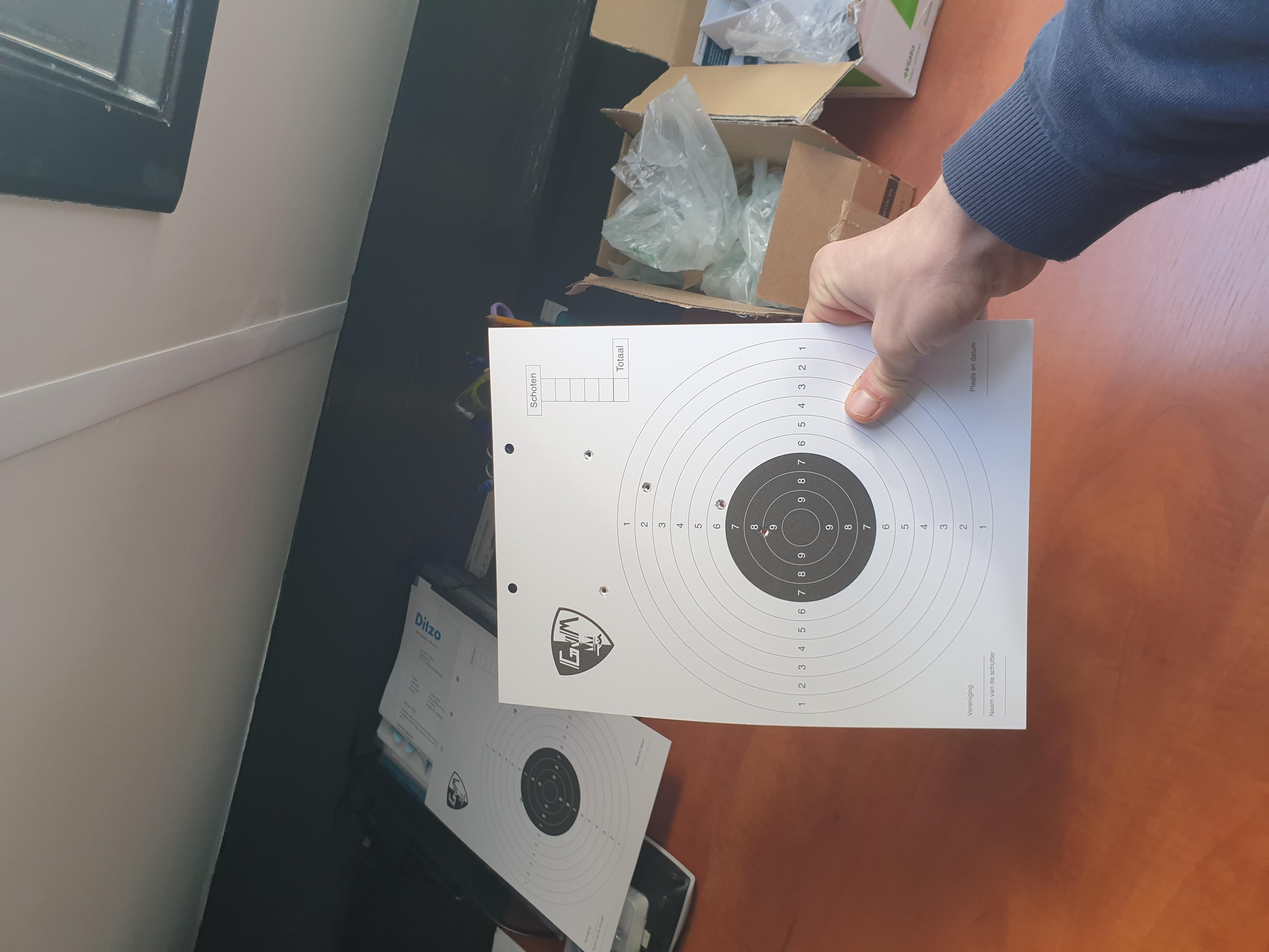hole: (583, 535, 606, 547), (654, 437, 671, 447), (552, 568, 569, 578), (611, 480, 627, 490), (472, 449, 491, 457)
